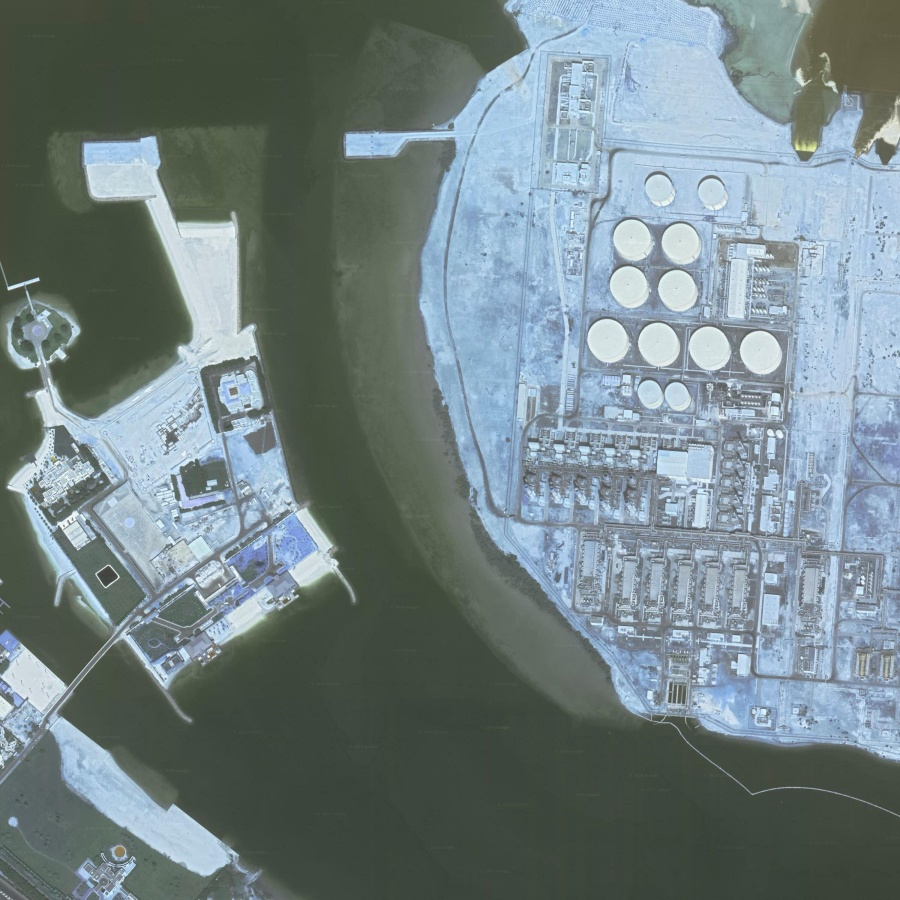PowerPlant: (515, 159, 815, 548)
